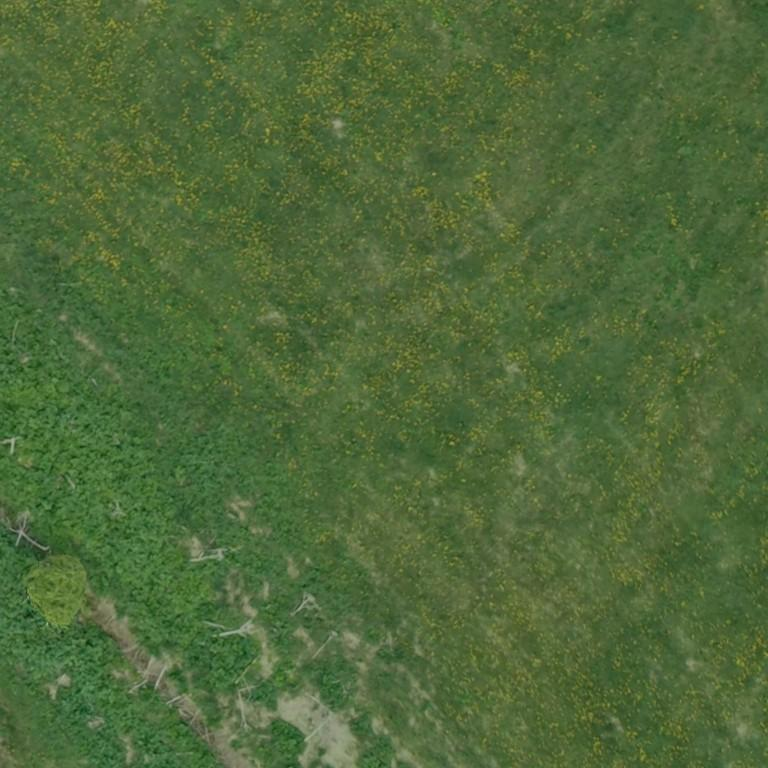hogweed: (0, 296, 252, 683), (0, 527, 183, 767), (138, 688, 216, 767), (270, 723, 304, 767), (248, 682, 273, 703)
